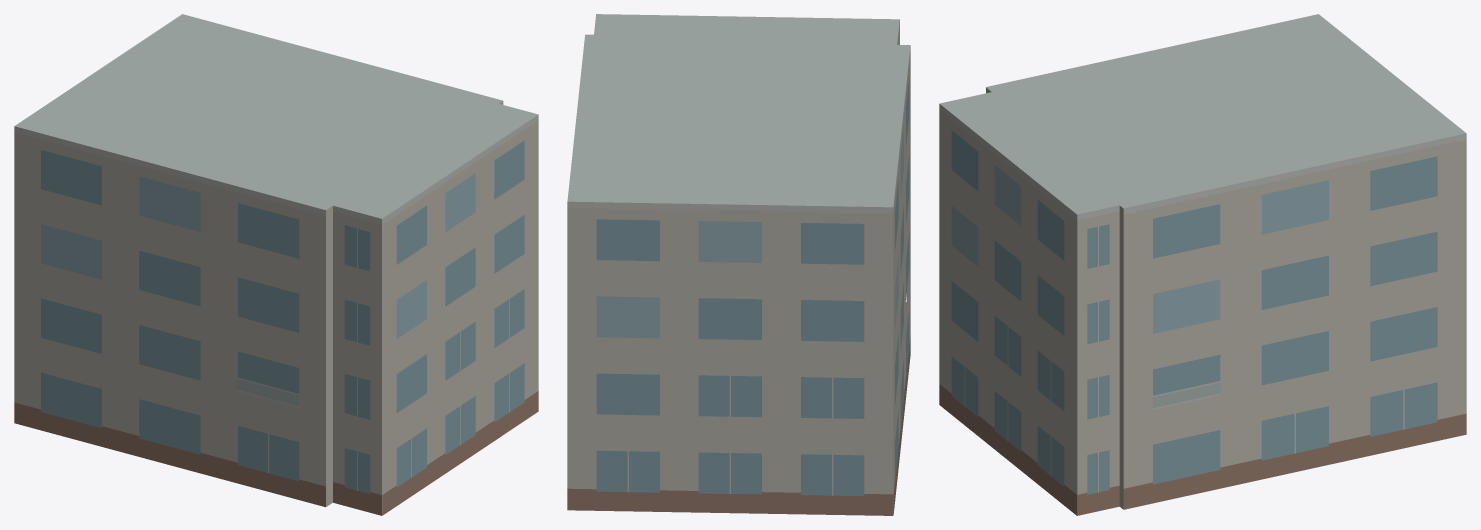
The model's file is survey-upis-32836415.glb.
3 renders of one model, left to right at view 1: azimuth 30°, elevation 25°; view 2: azimuth 150°, elevation 25°; view 3: azimuth 270°, elevation 25°, orthographic. The views are drawn at different scales.
Parts seen in each view (by area): view 1: survey-upis-32836415.tmp; view 2: survey-upis-32836415.tmp; view 3: survey-upis-32836415.tmp.
Part boxes in pixels (bbox=[...]): survey-upis-32836415.tmp: bbox=[14, 14, 538, 515]; survey-upis-32836415.tmp: bbox=[567, 14, 910, 515]; survey-upis-32836415.tmp: bbox=[939, 14, 1466, 515].
Bounding box in the file's own units: 17.43 × 12.2 × 19.36.
